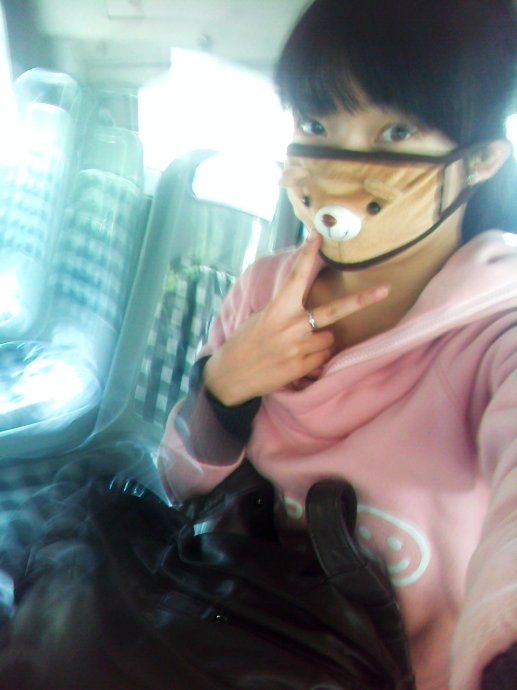face_mask: (286, 71, 457, 267)
